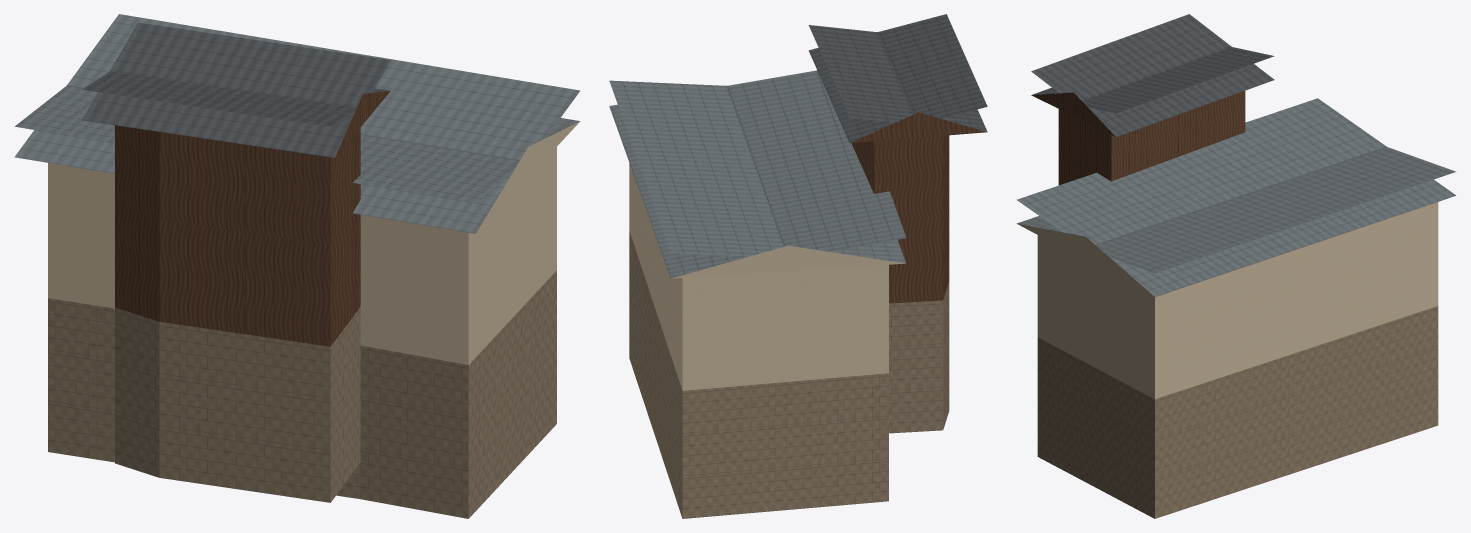
Rendered from bld_c44_-38_421.gltf.
3 views of the same model, side by side, from view 1: azimuth 30°, elevation 25°; view 2: azimuth 150°, elevation 25°; view 3: azimuth 270°, elevation 25° (orthographic). The views are drawn at different scales.
Parts seen in each view (by area): view 1: bld_c44_-38_421; view 2: bld_c44_-38_421; view 3: bld_c44_-38_421.
Boxes of the visible parts, x1=… form: bld_c44_-38_421: x1=14, y1=14, x2=580, y2=518; bld_c44_-38_421: x1=609, y1=14, x2=987, y2=518; bld_c44_-38_421: x1=1016, y1=14, x2=1456, y2=518.
Bounding box in the file's own units: 16.3 × 14 × 16.77.
7 materials, 7 textured.
